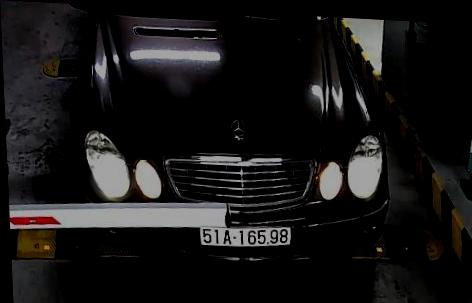License_Plate: (198, 224, 294, 253)
